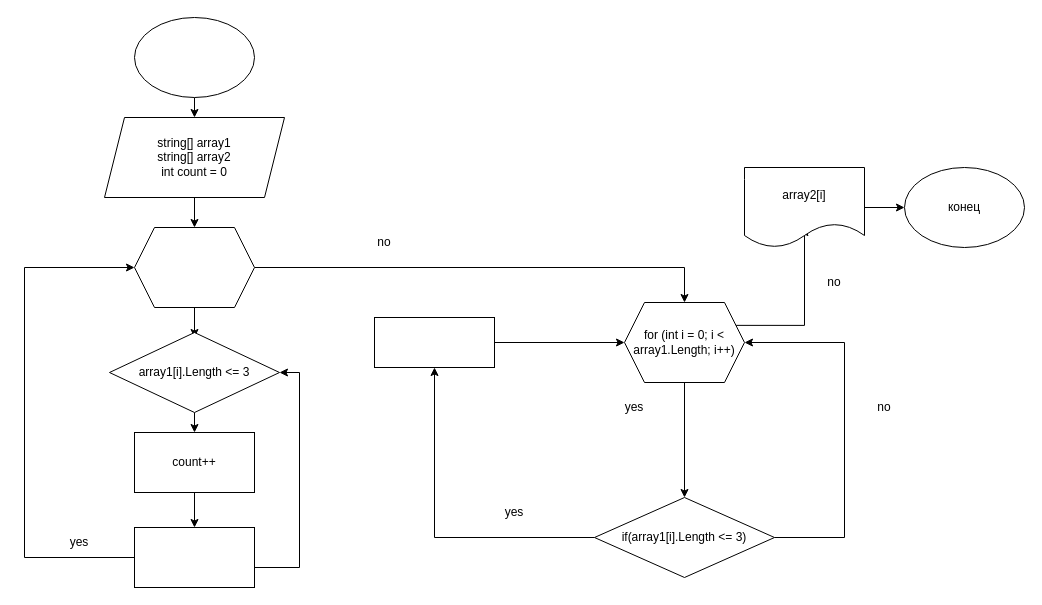
Image size: 1042x605. Some labels were removed from this diagram. Here are the shapes that lost their labels. From the top down, the box of each, then its label:
(134, 16, 254, 98): Начало
(134, 226, 254, 308): for (int i = 0; i < 5; i++)
(374, 316, 494, 368): array2[count] = array1[i]; count++;
(134, 526, 254, 588): i++
